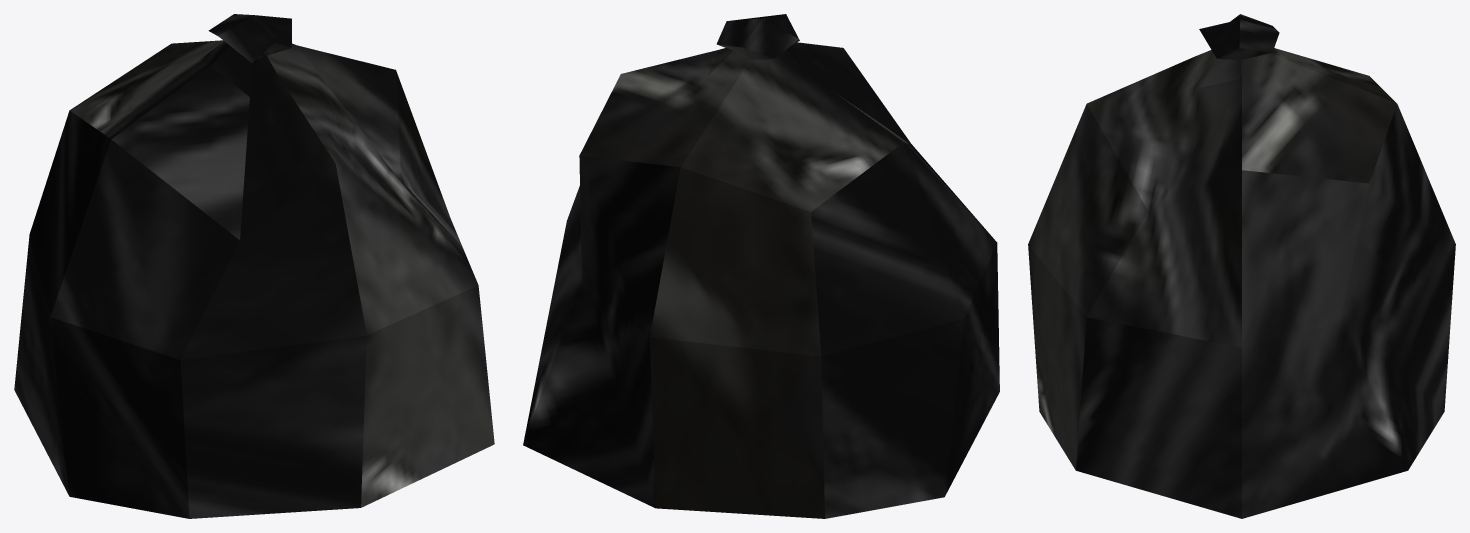
File: TrashBag1.fbx
3 renders of one model, left to right at view 1: azimuth 30°, elevation 25°; view 2: azimuth 150°, elevation 25°; view 3: azimuth 270°, elevation 25°, orthographic. The views are drawn at different scales.
Parts seen in each view (by area): view 1: bag_2; view 2: bag_2; view 3: bag_2.
Part boxes in pixels (x1=…): bag_2: x1=14, y1=14, x2=494, y2=518; bag_2: x1=523, y1=14, x2=999, y2=518; bag_2: x1=1028, y1=14, x2=1455, y2=518.
Size of the model in its own units: 1.39 by 1.36 by 1.5.
